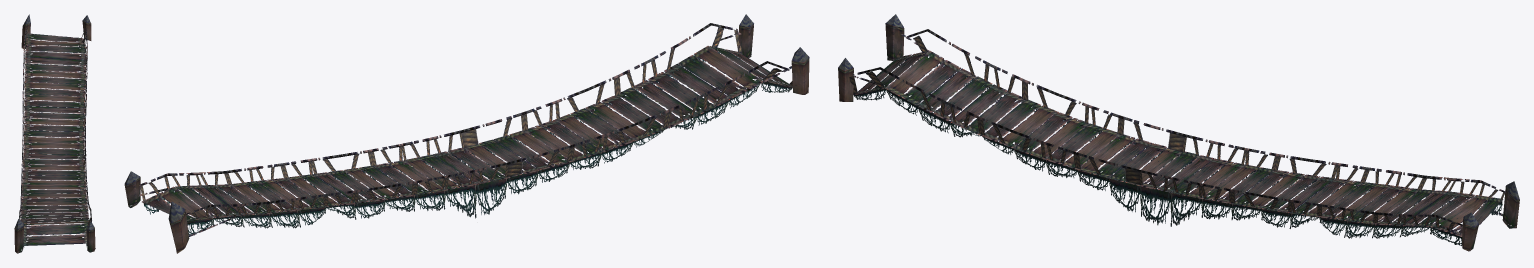
Rendered from Yland2_zb_17 Yland2.FBX.
3 renders of one model, left to right at view 1: azimuth 30°, elevation 25°; view 2: azimuth 150°, elevation 25°; view 3: azimuth 270°, elevation 25°, orthographic. The views are drawn at different scales.
Visible parts, largest first — view 1: Yland2_zb_17 Yland2; view 2: Yland2_zb_17 Yland2; view 3: Yland2_zb_17 Yland2.
Boxes of the visible parts, x1,y1,x2,y2 form: Yland2_zb_17 Yland2: (14, 14, 95, 253); Yland2_zb_17 Yland2: (124, 14, 809, 253); Yland2_zb_17 Yland2: (838, 14, 1519, 251).
Size of the model in its own units: 7.52 by 2.08 by 11.16.
